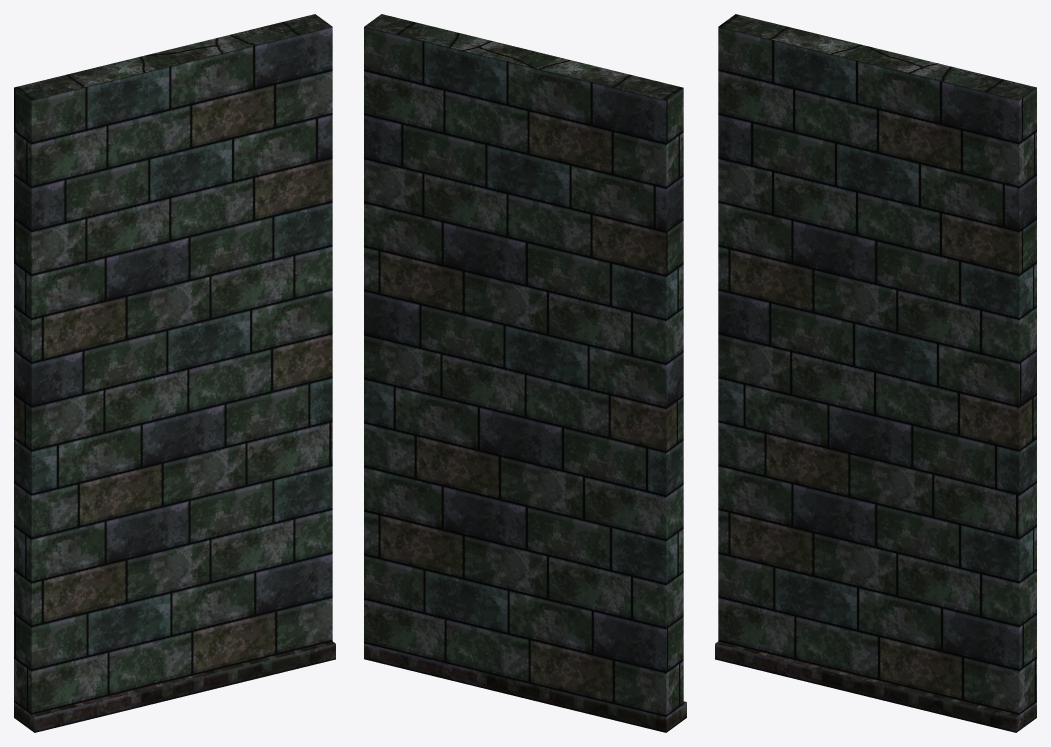
The model's file is SM_CastleWall1x2V1.fbx.
The picture shows the model from 3 angles, left to right: view 1: azimuth 30°, elevation 25°; view 2: azimuth 150°, elevation 25°; view 3: azimuth 330°, elevation 25°; orthographic projection.
Visible parts, largest first — view 1: SM_CastleWall1x2V1; view 2: SM_CastleWall1x2V1; view 3: SM_CastleWall1x2V1.
Part boxes in pixels (x1,y1,x2,y2): SM_CastleWall1x2V1: (14, 14, 335, 732); SM_CastleWall1x2V1: (364, 14, 686, 732); SM_CastleWall1x2V1: (715, 14, 1036, 732).
Size of the model in its own units: 2000 by 4001 by 236.
